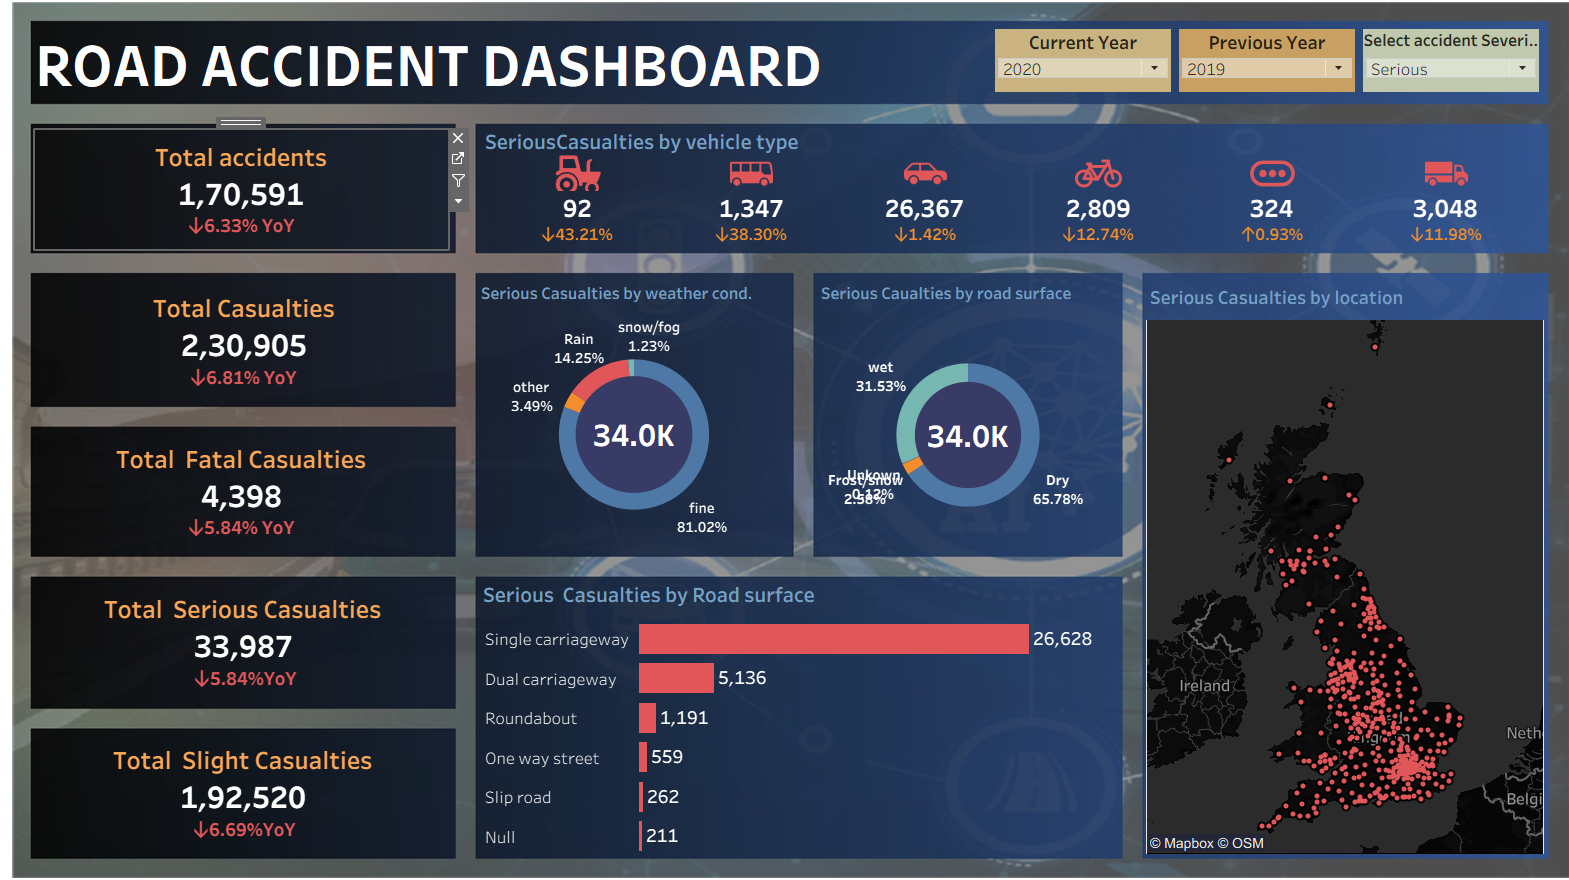

Layout of this report page (visuals, bound fields, positions):
{"tool":"tableau","page":{"name":"Dashboard 1","canvas":[1600,900],"ordinal":0},"visuals":[{"type":"image","param":"Image/background tableau.jpg","box":[8,8,1584,884]},{"type":"parameter","param":"[Parameters].[Parameter 0740850898325505]","box":[1000,35,184,71]},{"type":"parameter","param":"[Parameters].[current year (copy)_0740850899378178]","box":[1184,35,184,71]},{"type":"parameter","param":"[Parameters].[Parameter 1074554071289856]","box":[1368,35,184,71]},{"type":"text","box":[40,37,815,73]},{"type":"text","box":[490,136,533,30]},{"type":"worksheet","title":"Total accidents","mark":"Automatic","box":[44,140,413,119]},{"type":"worksheet","title":"Vehicle type images","mark":"Shape","box":[496,160,1050,41]},{"type":"worksheet","title":"Vehicle type KPI","mark":"Automatic","box":[496,201,1050,59]},{"type":"worksheet","title":"Total casualties","mark":"Automatic","box":[43,286,420,130]},{"type":"worksheet","title":"wheather condition","mark":"Pie","rows":["Calculation_1434094437011467","Calculation_1434094437031949"],"box":[486,288,314,276]},{"type":"worksheet","title":"Road surface","mark":"Pie","rows":["Calculation_1434094437011467","Calculation_1434094437031949"],"box":[826,288,302,277]},{"type":"worksheet","title":"By location","mark":"Automatic","rows":["Latitude"],"cols":["Longitude"],"box":[1155,290,398,574]},{"type":"worksheet","title":"Fatal casualties","mark":"Automatic","box":[42,441,418,121]},{"type":"worksheet","title":"Road type","mark":"Automatic","rows":["Road_Type"],"cols":["Calculation_0740850922016777"],"box":[488,586,638,280]},{"type":"worksheet","title":"serious casualties","mark":"Automatic","box":[42,590,421,125]},{"type":"worksheet","title":"Slight casualties ","mark":"Automatic","box":[41,738,422,130]}]}

Visuals, with their boxes in screenshot pixels (x1, y1, x2, y2), scaled from the page's 1600x900 canvas onto the 1569x880 screenshot:
image: bbox=[8, 8, 1561, 872]
parameter: bbox=[981, 34, 1161, 104]
parameter: bbox=[1161, 34, 1341, 104]
parameter: bbox=[1341, 34, 1522, 104]
text: bbox=[39, 36, 838, 108]
text: bbox=[481, 133, 1003, 162]
"Total accidents" worksheet: bbox=[43, 137, 448, 253]
"Vehicle type images" worksheet (Shape marks): bbox=[486, 156, 1516, 197]
"Vehicle type KPI" worksheet: bbox=[486, 197, 1516, 254]
"Total casualties" worksheet: bbox=[42, 280, 454, 407]
"wheather condition" worksheet (Pie marks): bbox=[477, 282, 784, 551]
"Road surface" worksheet (Pie marks): bbox=[810, 282, 1106, 552]
"By location" worksheet: bbox=[1133, 284, 1523, 845]
"Fatal casualties" worksheet: bbox=[41, 431, 451, 550]
"Road type" worksheet: bbox=[479, 573, 1104, 847]
"serious casualties" worksheet: bbox=[41, 577, 454, 699]
"Slight casualties " worksheet: bbox=[40, 722, 454, 849]
